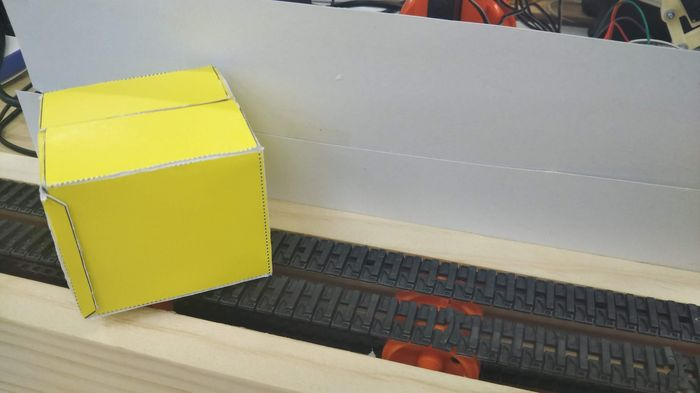box4: (35, 61, 272, 318)
